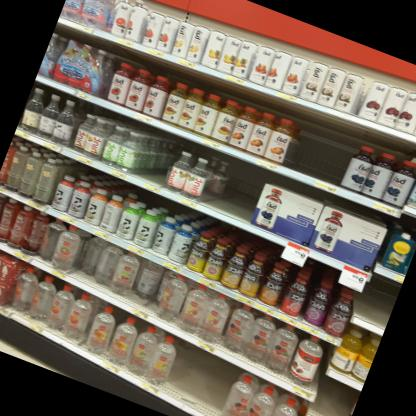empty_space: (199, 150, 269, 224), (284, 107, 335, 177), (312, 116, 362, 187), (195, 356, 239, 416), (175, 346, 215, 410), (159, 338, 196, 399), (128, 124, 166, 181), (353, 271, 392, 324), (147, 131, 182, 188), (308, 374, 344, 416), (374, 280, 402, 329), (16, 80, 38, 129), (332, 384, 361, 416)
